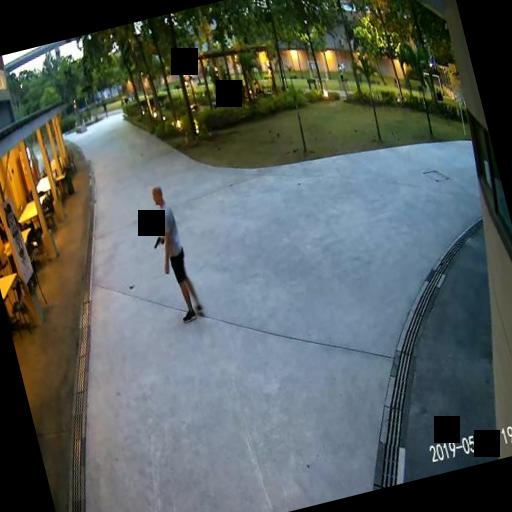Handgun: (150, 234, 164, 248)
